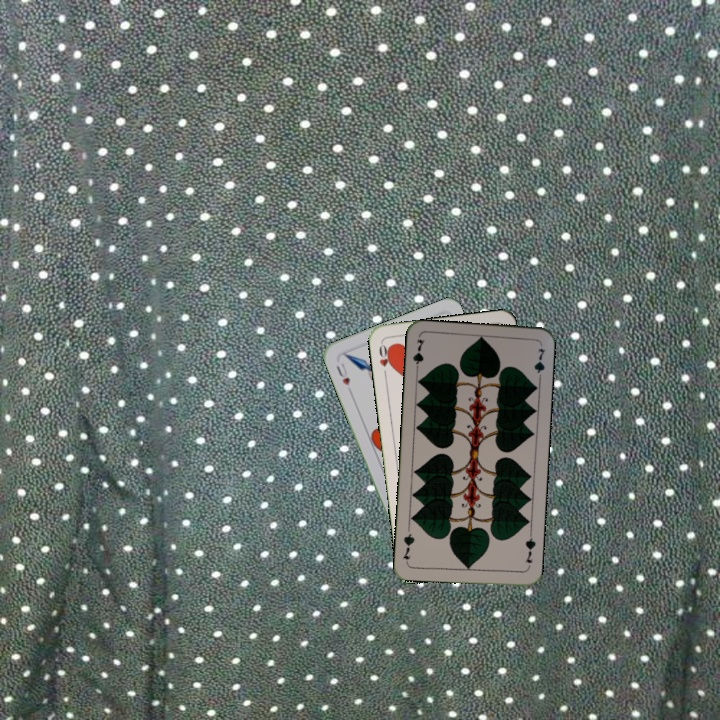G7: (409, 335, 427, 375), (521, 530, 538, 565)
HO: (375, 339, 395, 380)
HU: (332, 359, 352, 389)
